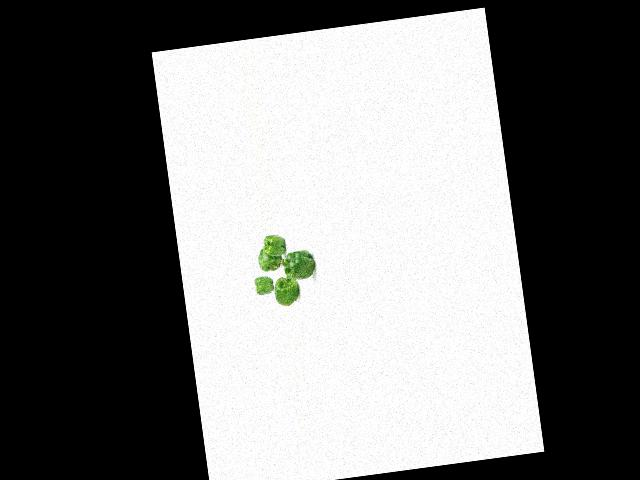bell_pepper: (262, 232, 290, 259)
